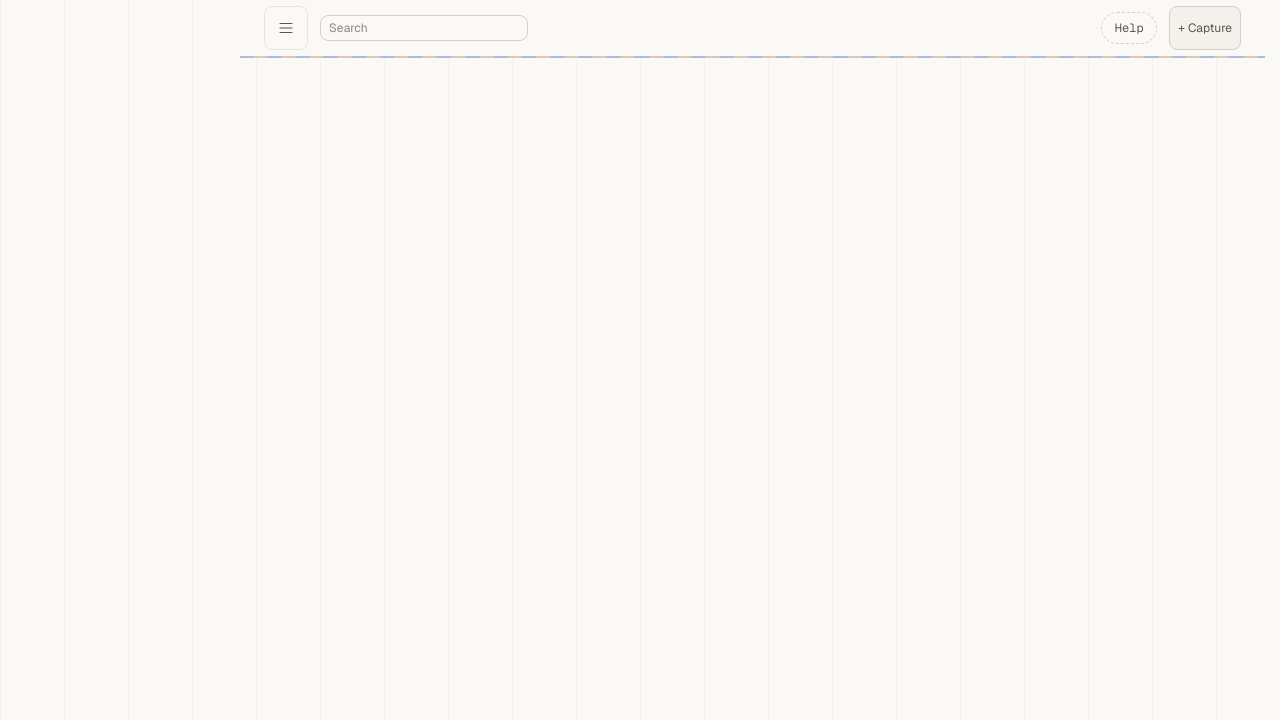
Test: the navigation shell › uses Escape in the identity menu without cancelling the surrounding drawer
Click the button named "Open navigation" at (286, 28), box [264,6,308,50]
(page scrolled)
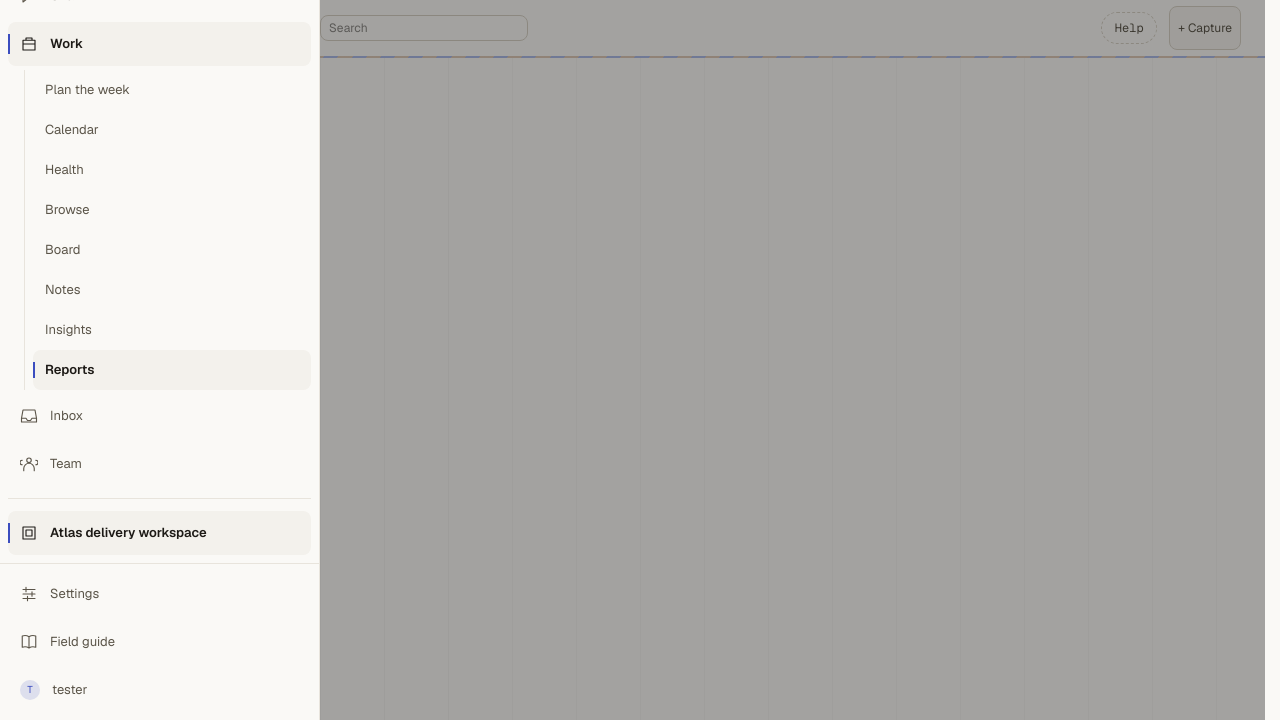
Click the button titled "You - tester" at (70, 689), box [8,668,311,712]
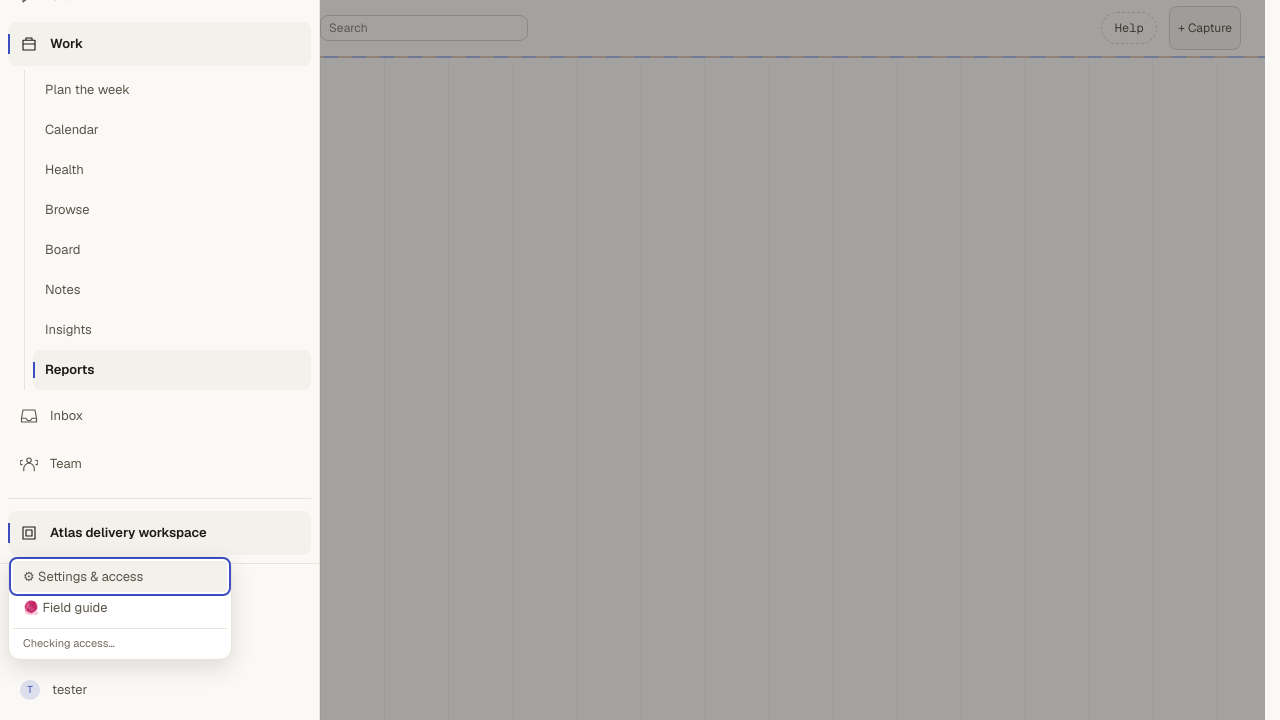
Press Escape in the menu, box [8,556,232,660]
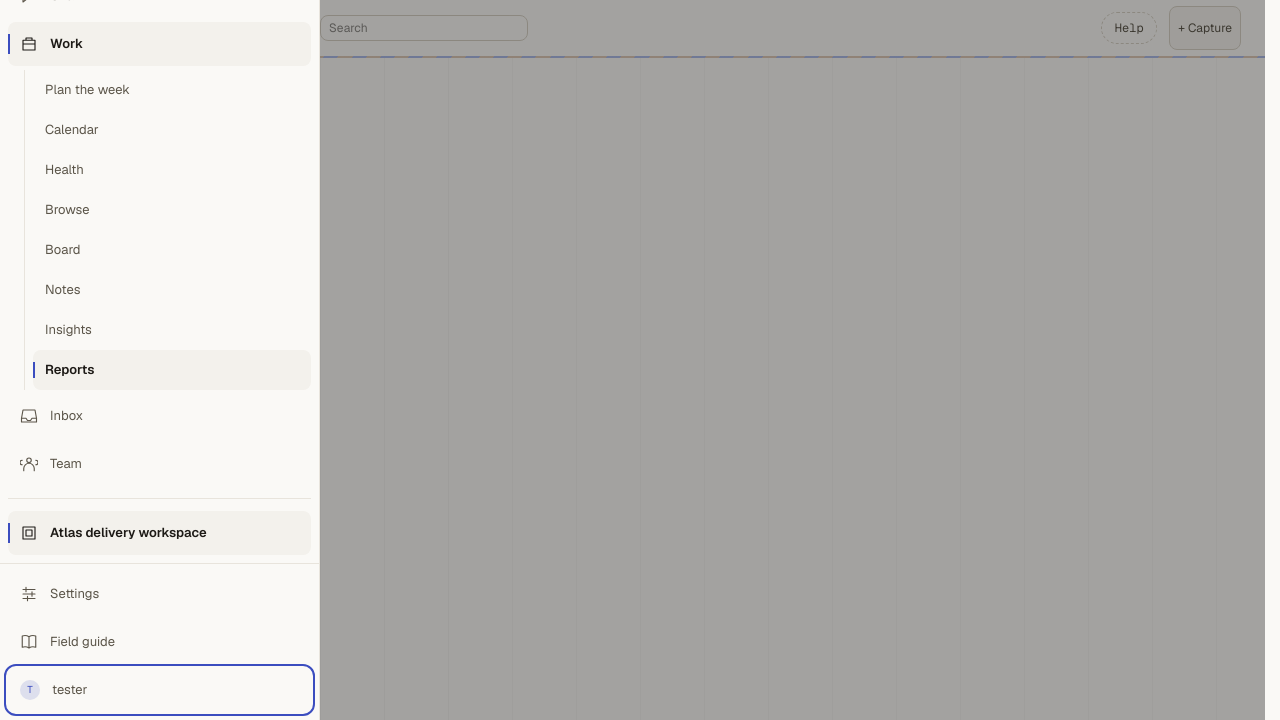
Now the dialog named "Navigation" is shown, box [0,0,320,719]
Now the menu is gone
